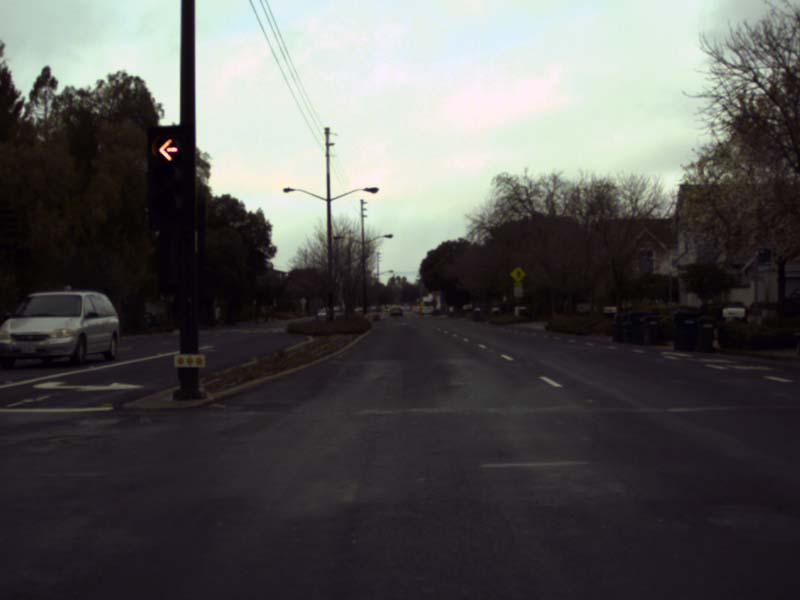Red: (149, 128, 196, 231)
